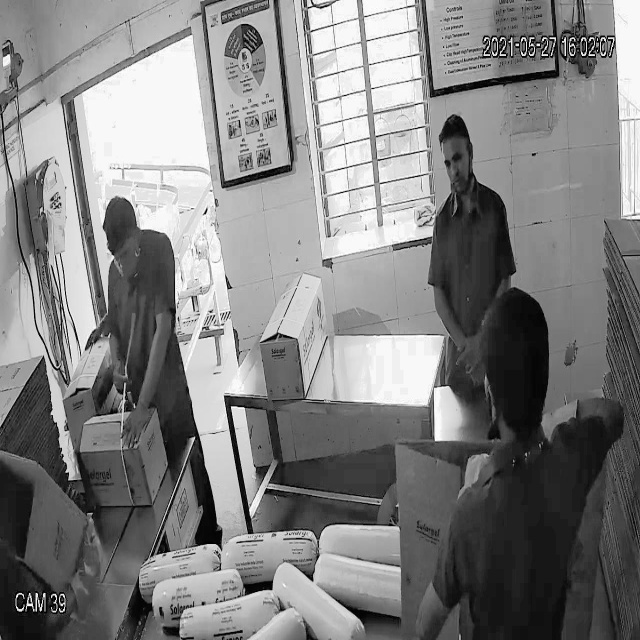Sin_gafas: (438, 145, 475, 179)
